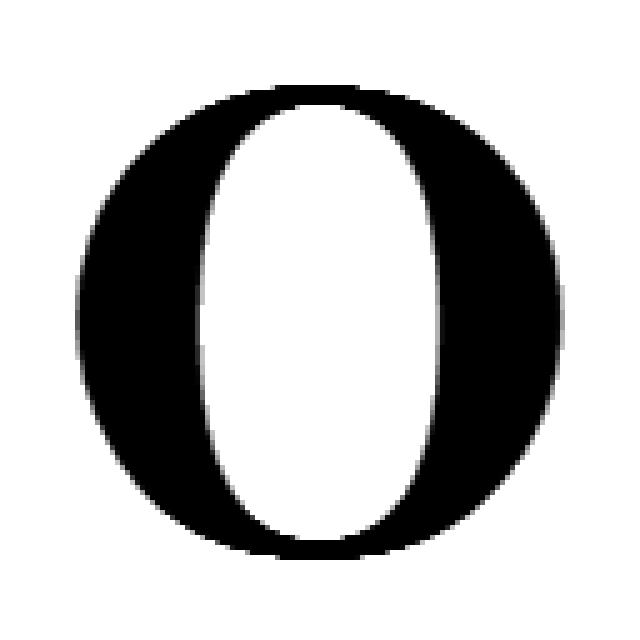O: (65, 85, 570, 565)
